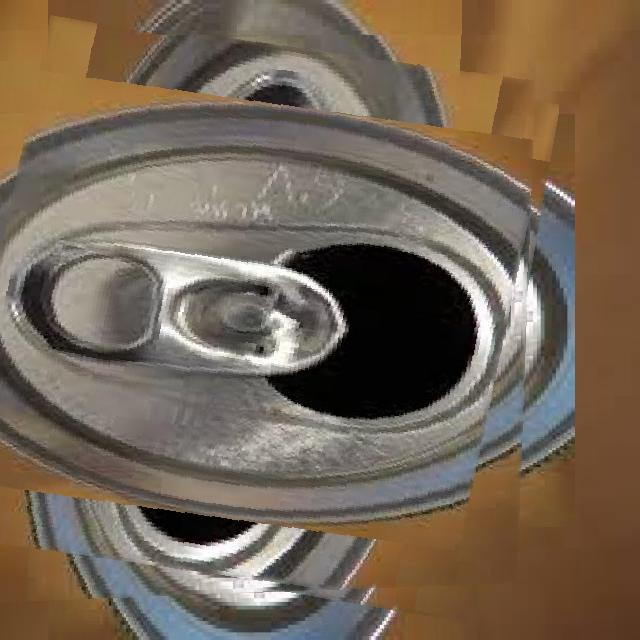recyclable: (0, 35, 538, 603)
